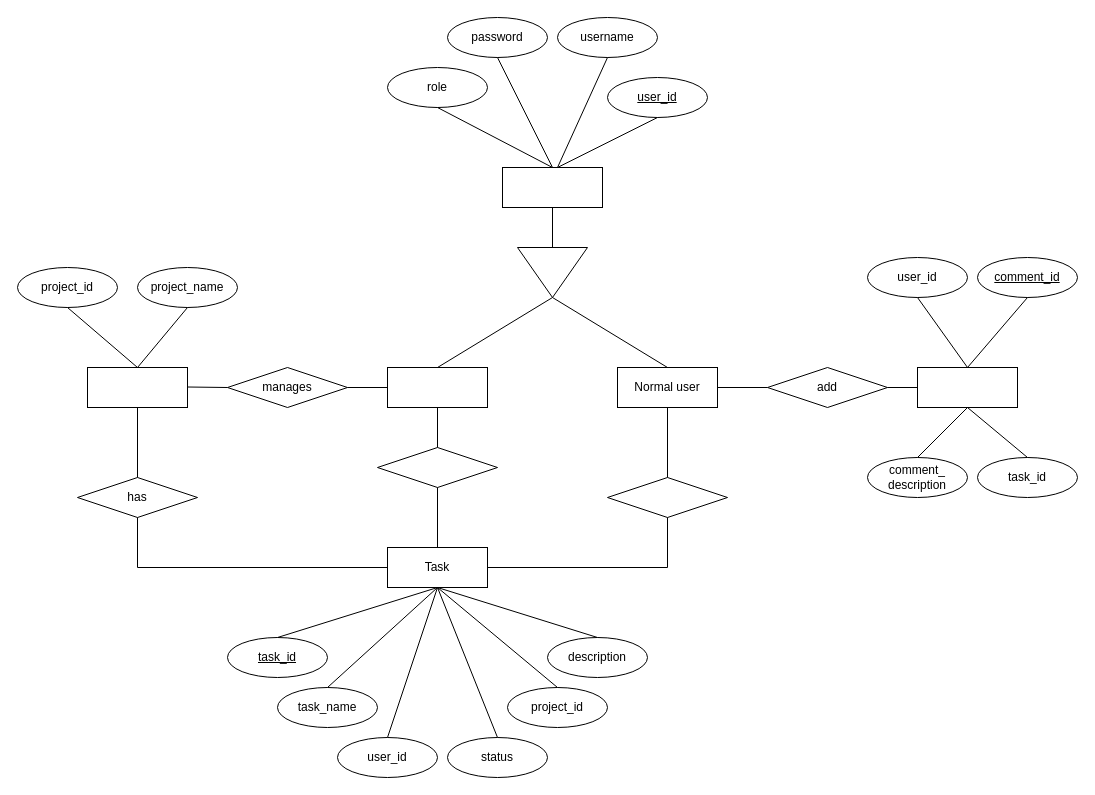
Image size: 1095x795. Some labels were removed from this diagram. The centre of each missing label's shape, as x and y in pixels:
"Admin" goes at point 437,387.
"assign" goes at point 437,467.
"comment" goes at point 967,387.
"is a" goes at point 552,272.
"perform" goes at point 667,497.
"project" goes at point 137,387.
"User" goes at point 552,187.
